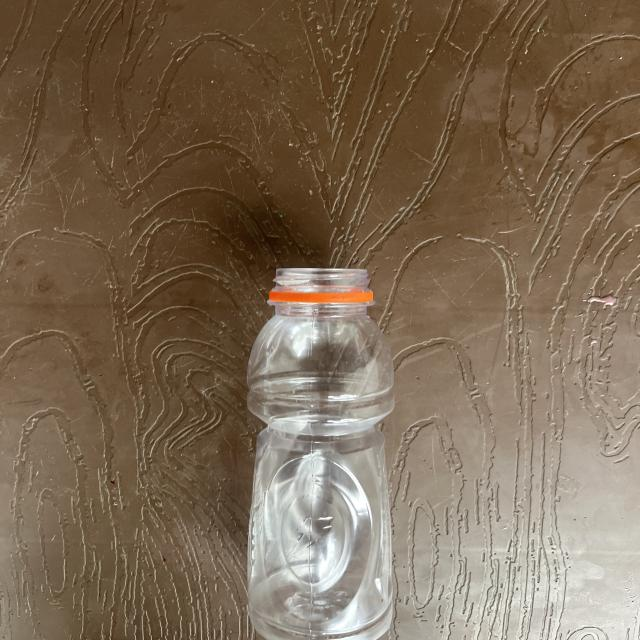PET_With_Cap: (232, 259, 398, 640)
